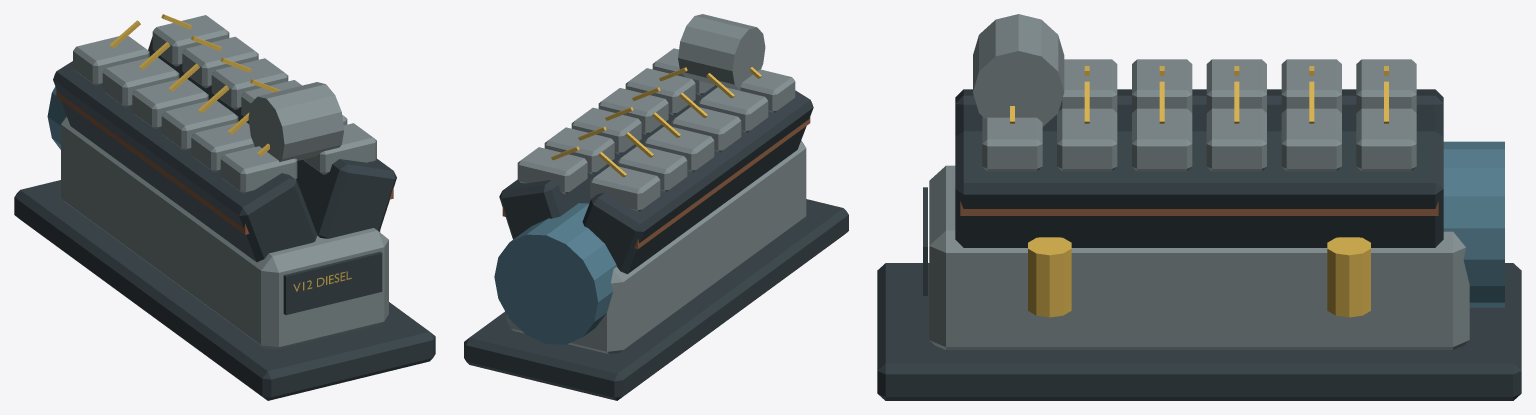
The model's file is DeadRail_Diesel_Engine.fbx.
3 views of the same model, side by side, from view 1: azimuth 30°, elevation 25°; view 2: azimuth 150°, elevation 25°; view 3: azimuth 270°, elevation 25° (orthographic). The views are drawn at different scales.
Parts seen in each view (by area): view 1: Diesel_Crankcase, Engine_Skid, Diesel_Cylinder_Bank, Diesel_Cylinder_Bank.001, Turbocharger, Engine_Service_Plate, Cylinder_Head, Cylinder_Head.002, Cylinder_Head.004, Cylinder_Head.003, Cylinder_Head.005, Cylinder_Head.009 (+7 smaller); view 2: Engine_Skid, Diesel_Crankcase, Alternator, Diesel_Cylinder_Bank, Turbocharger, Diesel_Cylinder_Bank.001, Cylinder_Head.011, Cylinder_Head.005, Cylinder_Head.004, Cylinder_Head.001, Cylinder_Head.003, Cylinder_Head.002 (+7 smaller); view 3: Diesel_Crankcase, Engine_Skid, Diesel_Cylinder_Bank.001, Alternator, Turbocharger, Diesel_Cylinder_Bank, Cylinder_Head.007, Cylinder_Head.008, Cylinder_Head.009, Cylinder_Head.010, Cylinder_Head.011, Engine_Service_Filter (+8 smaller).
Boxes of the visible parts, x1=… form: Diesel_Crankcase: x1=61, y1=116, x2=388, y2=349; Engine_Skid: x1=14, y1=180, x2=435, y2=400; Diesel_Cylinder_Bank: x1=53, y1=61, x2=317, y2=262; Diesel_Cylinder_Bank.001: x1=148, y1=36, x2=396, y2=238; Turbocharger: x1=248, y1=82, x2=344, y2=161; Engine_Service_Plate: x1=283, y1=251, x2=382, y2=314; Cylinder_Head: x1=220, y1=146, x2=297, y2=193; Cylinder_Head.002: x1=161, y1=101, x2=238, y2=150; Cylinder_Head.004: x1=102, y1=57, x2=179, y2=107; Cylinder_Head.003: x1=132, y1=79, x2=208, y2=129; Cylinder_Head.005: x1=73, y1=36, x2=149, y2=85; Cylinder_Head.009: x1=211, y1=58, x2=288, y2=109; Engine_Skid: x1=464, y1=199, x2=848, y2=400; Diesel_Crankcase: x1=506, y1=140, x2=806, y2=354; Alternator: x1=494, y1=203, x2=616, y2=344; Diesel_Cylinder_Bank: x1=582, y1=90, x2=813, y2=274; Turbocharger: x1=678, y1=14, x2=765, y2=90; Diesel_Cylinder_Bank.001: x1=499, y1=85, x2=717, y2=239; Cylinder_Head.011: x1=517, y1=147, x2=587, y2=194; Cylinder_Head.005: x1=590, y1=166, x2=660, y2=211; Cylinder_Head.004: x1=617, y1=146, x2=687, y2=191; Cylinder_Head.001: x1=698, y1=87, x2=768, y2=132; Cylinder_Head.003: x1=644, y1=127, x2=714, y2=172; Cylinder_Head.002: x1=671, y1=107, x2=741, y2=152; Diesel_Crankcase: x1=929, y1=165, x2=1469, y2=349; Engine_Skid: x1=877, y1=263, x2=1521, y2=400; Diesel_Cylinder_Bank.001: x1=955, y1=131, x2=1443, y2=247; Alternator: x1=1443, y1=141, x2=1504, y2=307; Turbocharger: x1=973, y1=14, x2=1064, y2=126; Diesel_Cylinder_Bank: x1=955, y1=89, x2=1443, y2=136; Cylinder_Head.007: x1=1057, y1=108, x2=1117, y2=171; Cylinder_Head.008: x1=1132, y1=108, x2=1192, y2=171; Cylinder_Head.009: x1=1206, y1=108, x2=1266, y2=171; Cylinder_Head.010: x1=1281, y1=108, x2=1341, y2=171; Cylinder_Head.011: x1=1356, y1=108, x2=1416, y2=171; Engine_Service_Filter: x1=1028, y1=237, x2=1071, y2=317.
Bounding box in the file's own units: 1.27 × 1.69 × 3.1.
